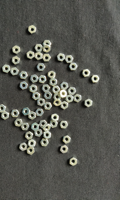nut: (12, 46, 21, 55), (57, 53, 66, 62), (59, 90, 68, 99), (37, 98, 46, 107), (29, 25, 37, 34), (43, 44, 51, 53), (27, 51, 35, 60), (42, 54, 51, 62), (65, 55, 74, 63), (12, 56, 20, 65), (2, 65, 11, 73), (37, 63, 46, 71), (82, 69, 91, 77), (20, 71, 28, 80), (39, 75, 47, 84), (50, 78, 58, 87), (42, 85, 51, 93), (52, 86, 61, 94), (61, 82, 69, 91), (68, 87, 77, 95), (33, 92, 41, 101), (44, 92, 53, 100), (74, 94, 82, 103), (85, 99, 93, 108), (54, 98, 62, 107), (61, 101, 69, 110), (22, 108, 31, 116), (11, 110, 20, 118), (1, 112, 10, 120), (14, 119, 23, 127), (21, 123, 30, 131), (60, 121, 69, 129), (35, 44, 43, 52), (35, 52, 43, 60), (70, 63, 78, 71), (92, 75, 100, 83), (11, 68, 19, 76), (48, 71, 56, 79), (31, 75, 39, 83), (20, 82, 28, 90), (30, 85, 38, 93), (66, 95, 74, 103), (44, 102, 52, 110), (36, 109, 44, 117), (51, 114, 59, 122), (40, 120, 48, 128), (43, 124, 51, 132), (25, 132, 33, 140), (41, 139, 49, 147), (63, 136, 71, 144), (28, 140, 36, 148), (20, 143, 28, 151), (27, 147, 35, 155), (61, 146, 69, 154), (70, 158, 78, 166), (32, 123, 39, 132), (44, 131, 51, 140), (29, 112, 36, 120), (50, 121, 58, 128), (35, 130, 43, 137), (43, 40, 52, 46), (54, 94, 62, 100), (0, 105, 6, 113)
